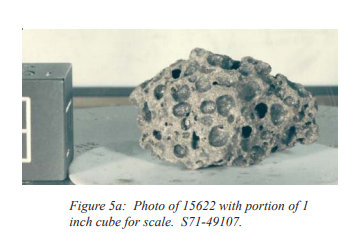Basalt: (109, 51, 324, 169)
